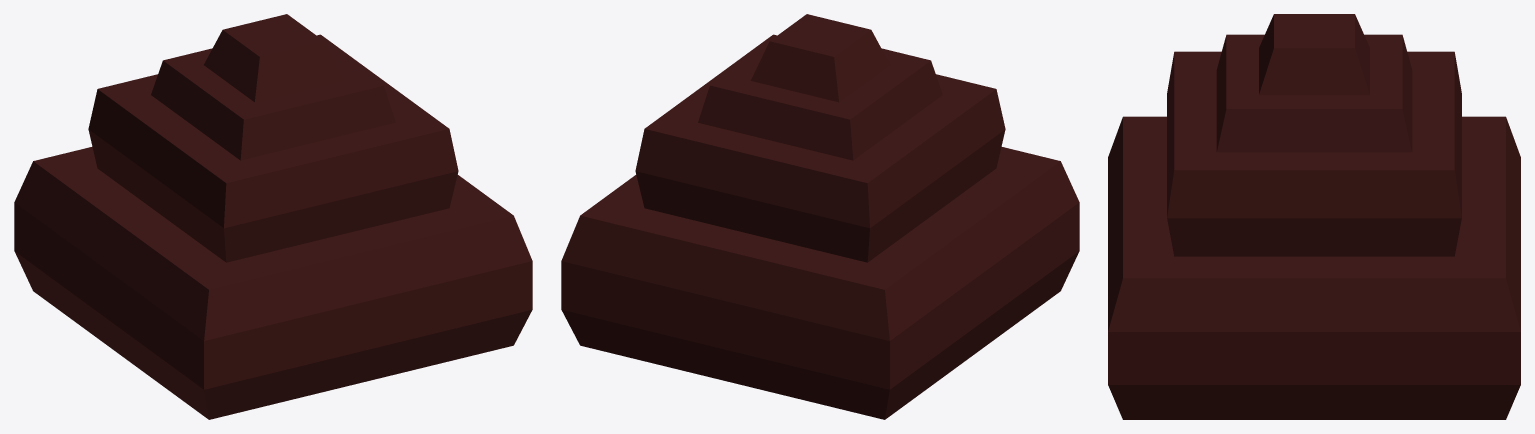
File: CatKK.fbx
The picture shows the model from 3 angles, left to right: view 1: azimuth 30°, elevation 25°; view 2: azimuth 150°, elevation 25°; view 3: azimuth 270°, elevation 25°; orthographic projection. The views are drawn at different scales.
Parts seen in each view (by area): view 1: CatKK; view 2: CatKK; view 3: CatKK.
Part boxes in pixels (left/top/right/bottom): CatKK: left=14, top=14, right=532, bottom=419; CatKK: left=561, top=14, right=1079, bottom=419; CatKK: left=1108, top=14, right=1520, bottom=419.
Size of the model in its own units: 0.0431 by 0.0431 by 0.0355.
